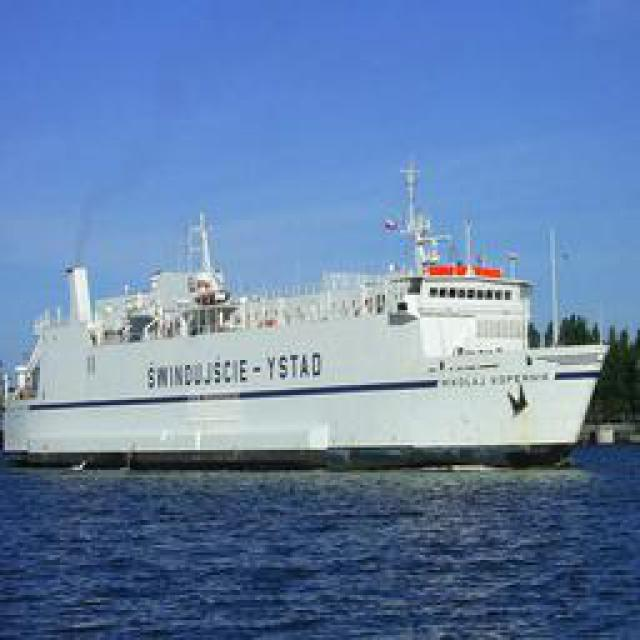Ship: (14, 157, 619, 465)
